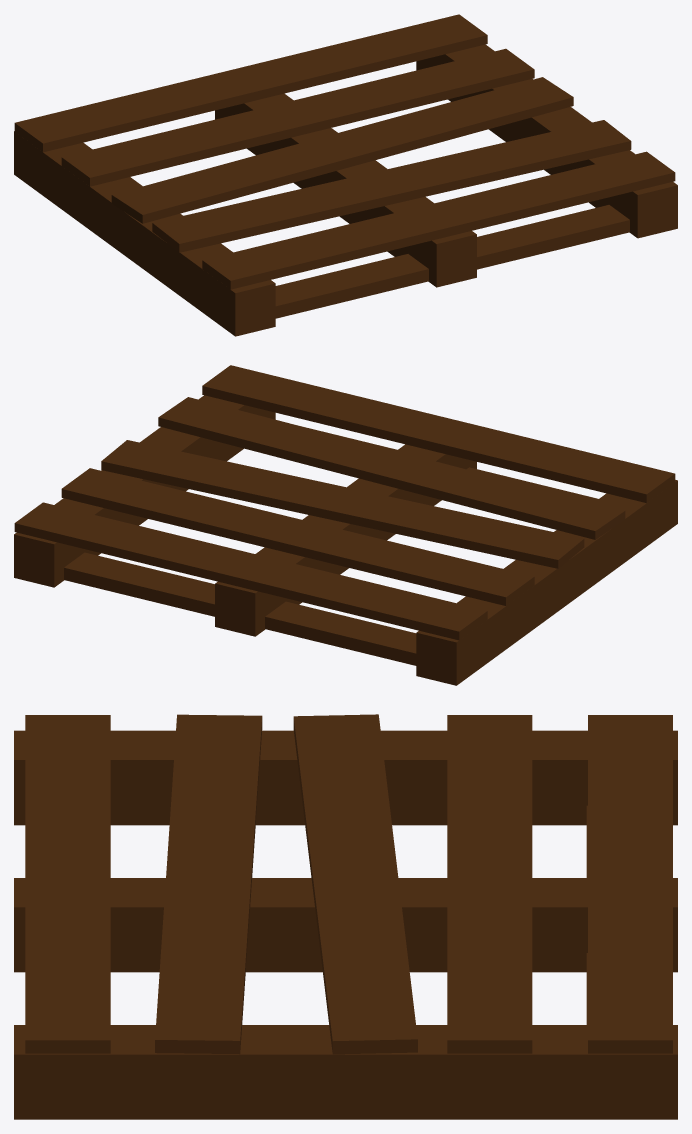
File: Pallet.obj
3 views of the same model, one above another, from view 1: azimuth 30°, elevation 25°; view 2: azimuth 150°, elevation 25°; view 3: azimuth 270°, elevation 25° (orthographic). The views are drawn at different scales.
Parts seen in each view (by area): view 1: Pallet_Cube.001; view 2: Pallet_Cube.001; view 3: Pallet_Cube.001.
Boxes of the visible parts, bbox=[...] form: Pallet_Cube.001: bbox=[14, 14, 677, 336]; Pallet_Cube.001: bbox=[14, 365, 677, 685]; Pallet_Cube.001: bbox=[14, 714, 677, 1119].
Size of the model in its own units: 1.7 by 0.1932 by 1.46.
